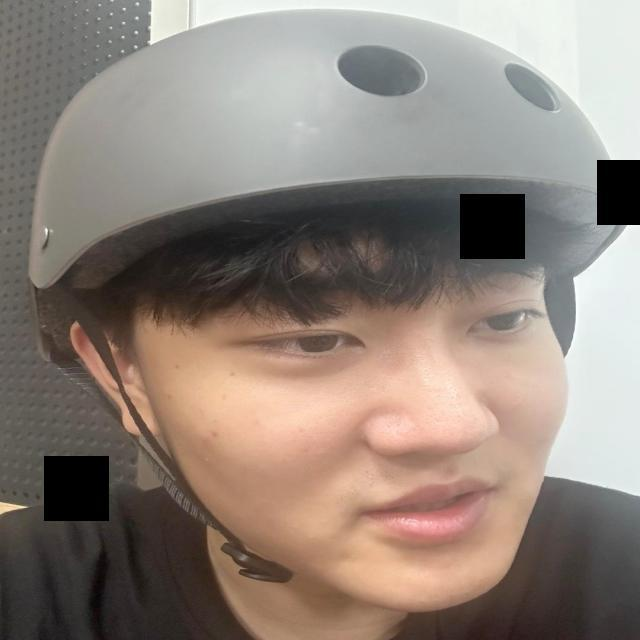helmet: (32, 10, 632, 612)
